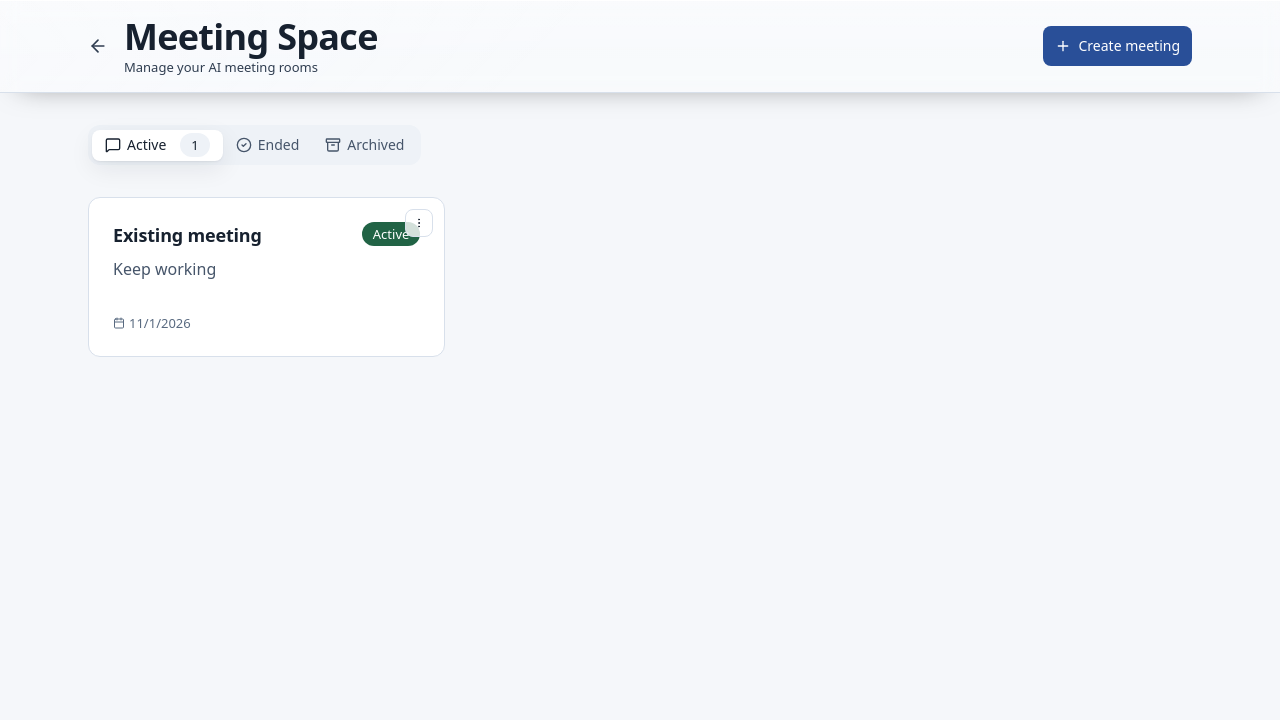
meeting space reads › keeps the delete confirmation open when deletion fails
The width and height of the screenshot is (1280, 720).
Press the mouse on the button named "Actions for Existing meeting" at x=419, y=223, box [405,209,433,237]
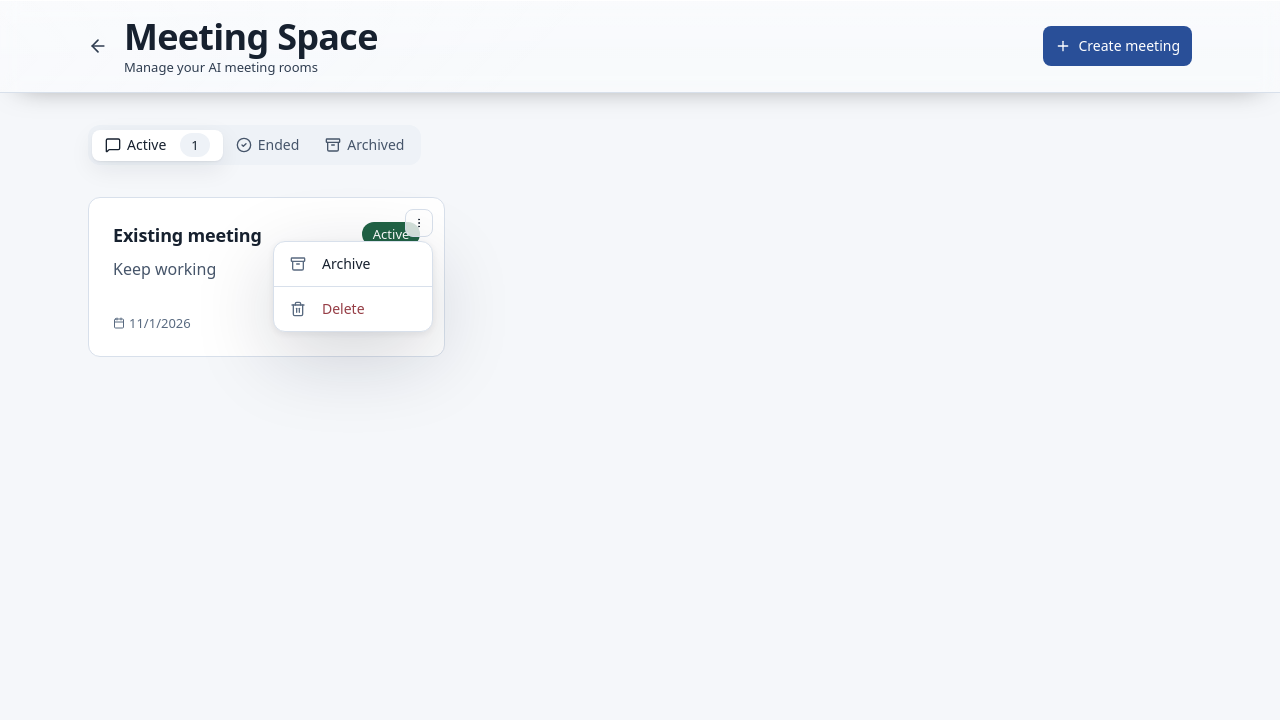
Click the menu item "Delete" at x=327, y=308, box [290,299,365,318]
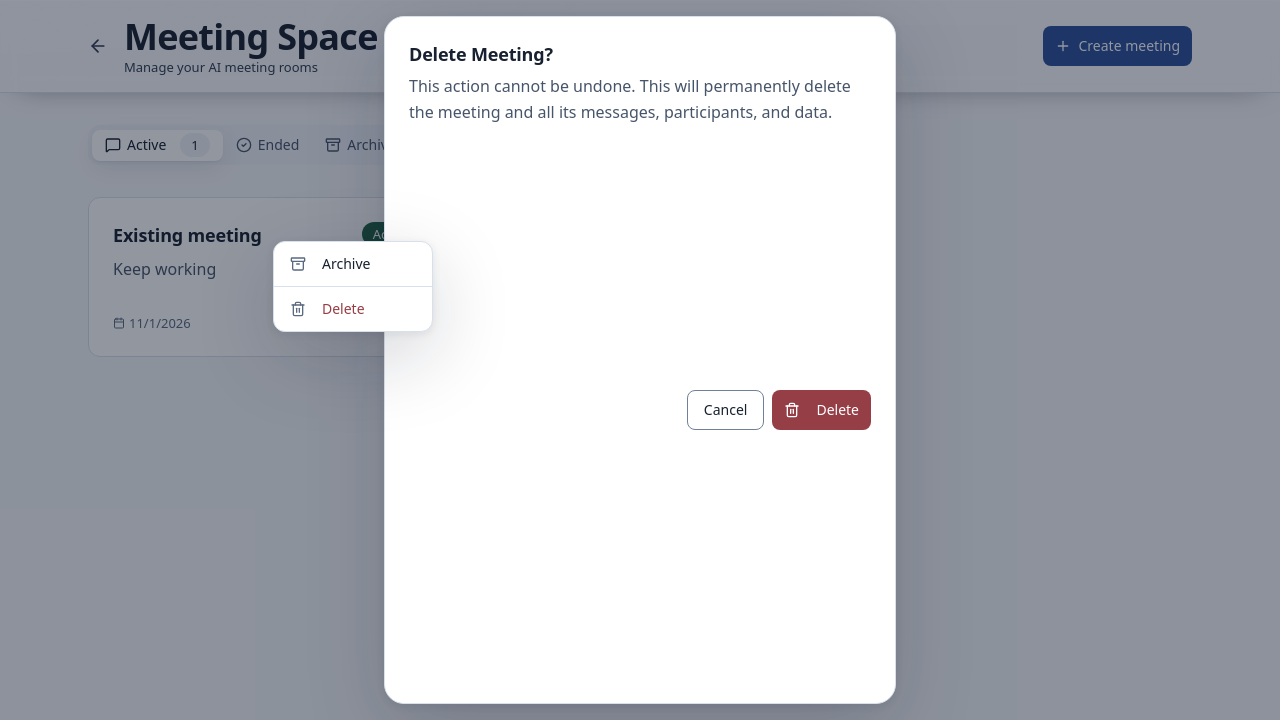
Click the button "Delete" at x=822, y=410, box [772,390,871,430]
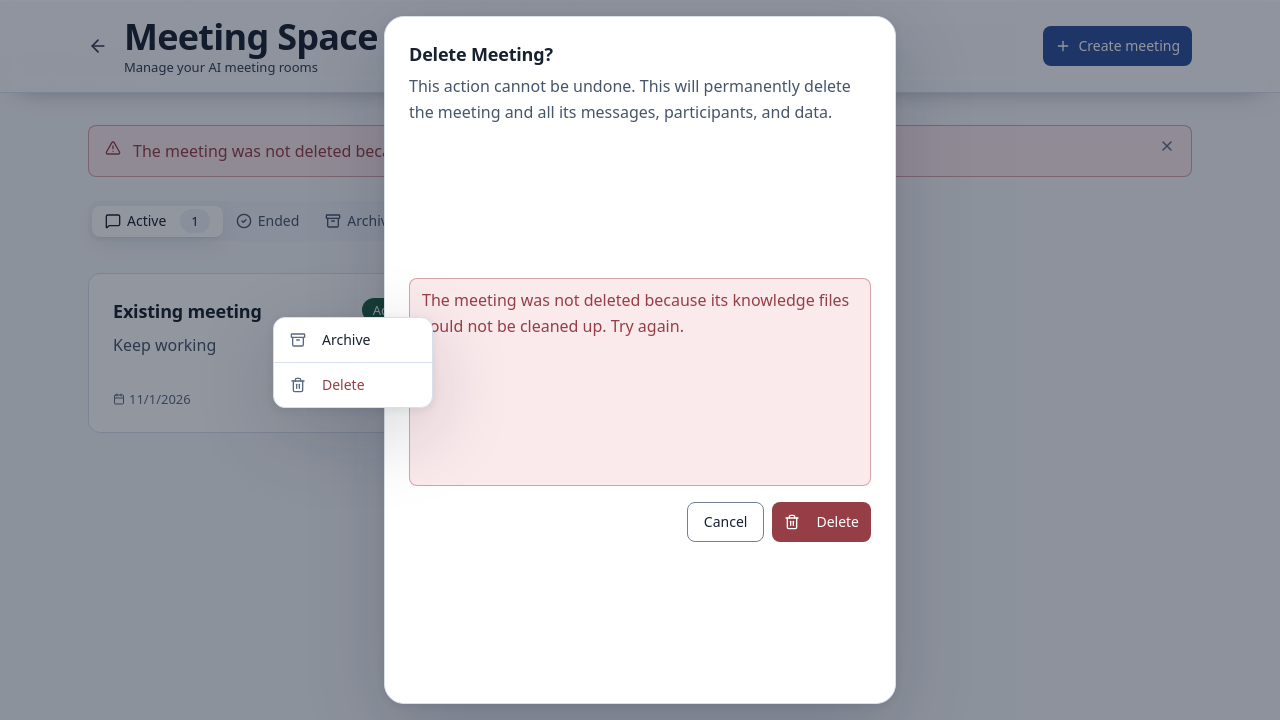
expect the heading "Delete Meeting?" is shown: met, box [409,41,553,67]
expect the text "The meeting was not deleted because its knowledge files could not be cleaned up. Try again." is shown: met, box [422,289,849,337]
